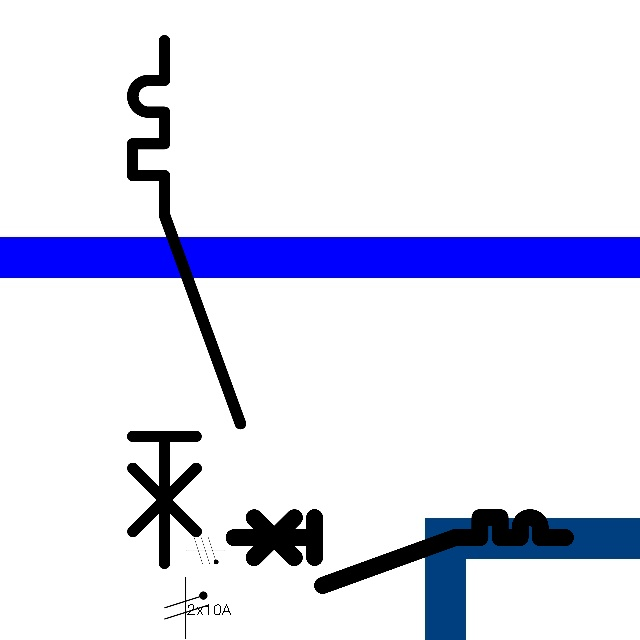interruptor_termomagnetico: (119, 27, 253, 577), (225, 509, 573, 594)
